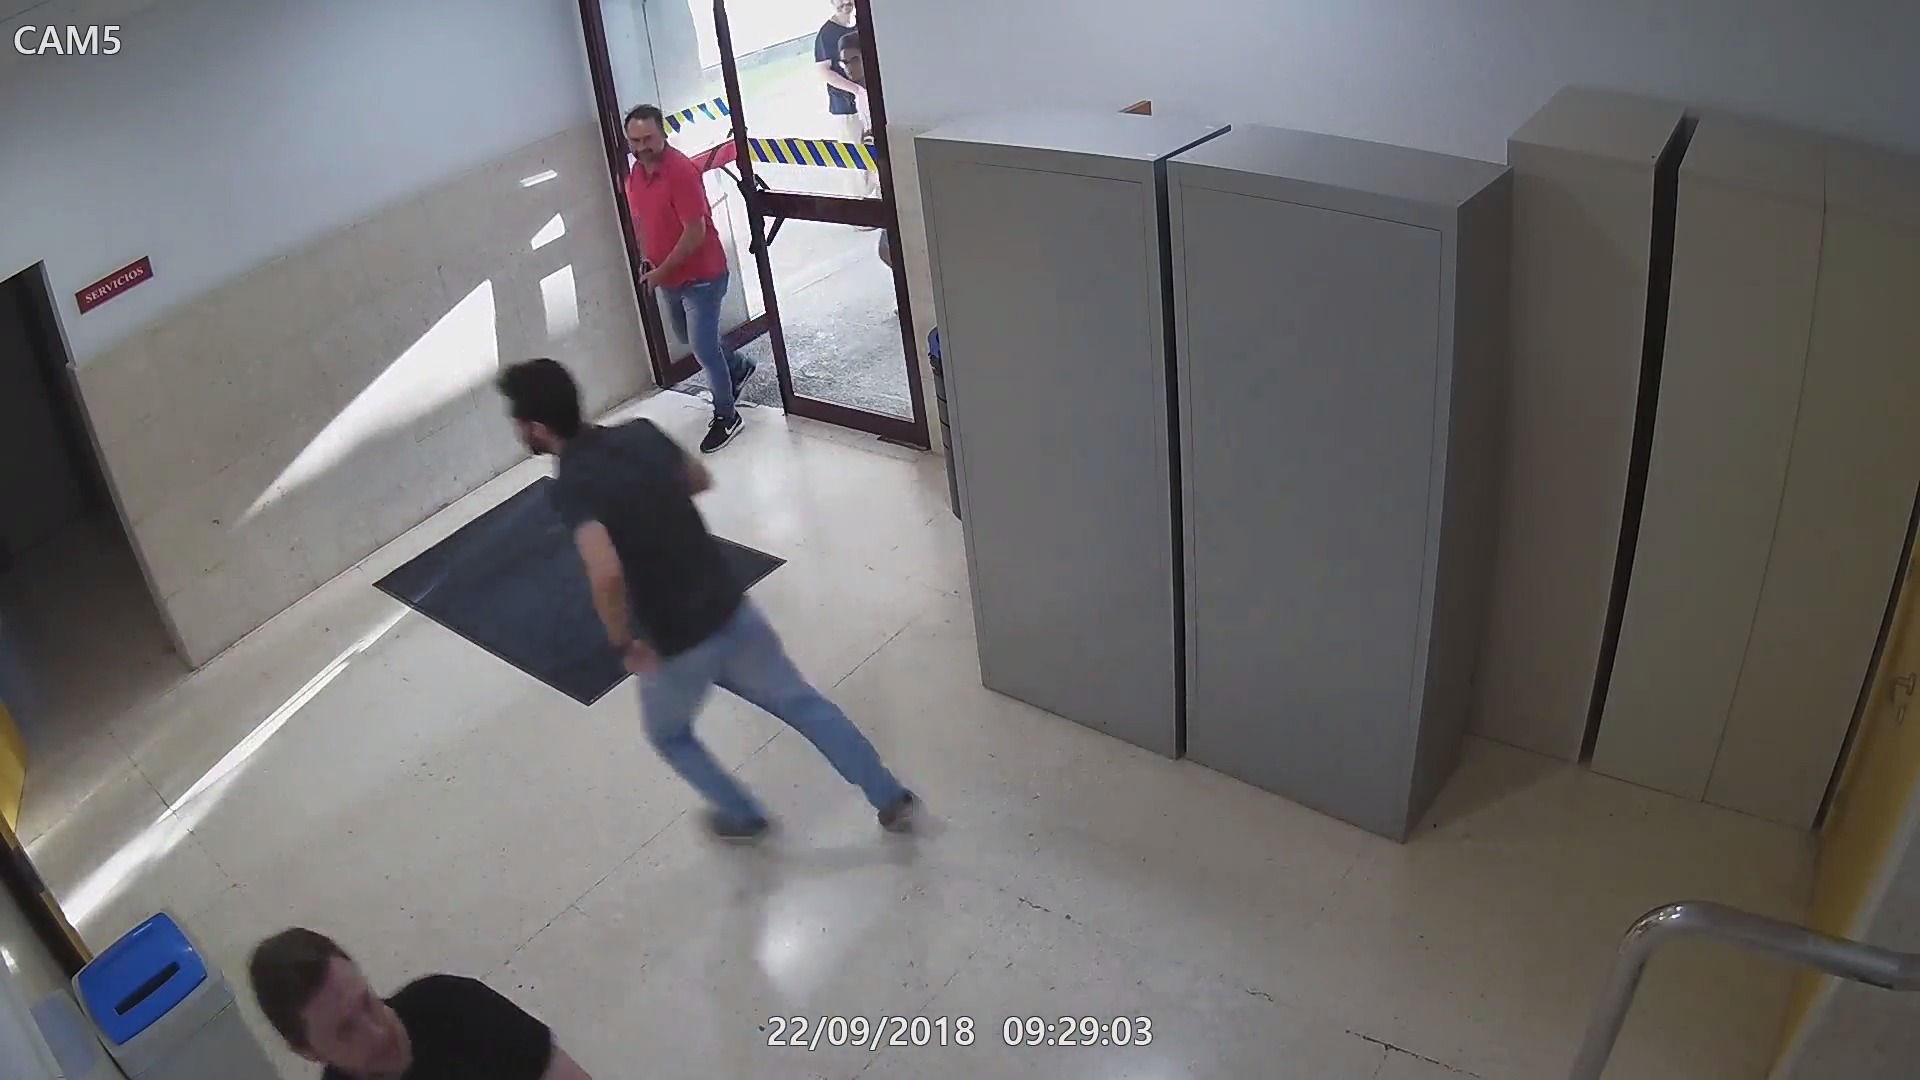Handgun: (630, 255, 659, 313)
